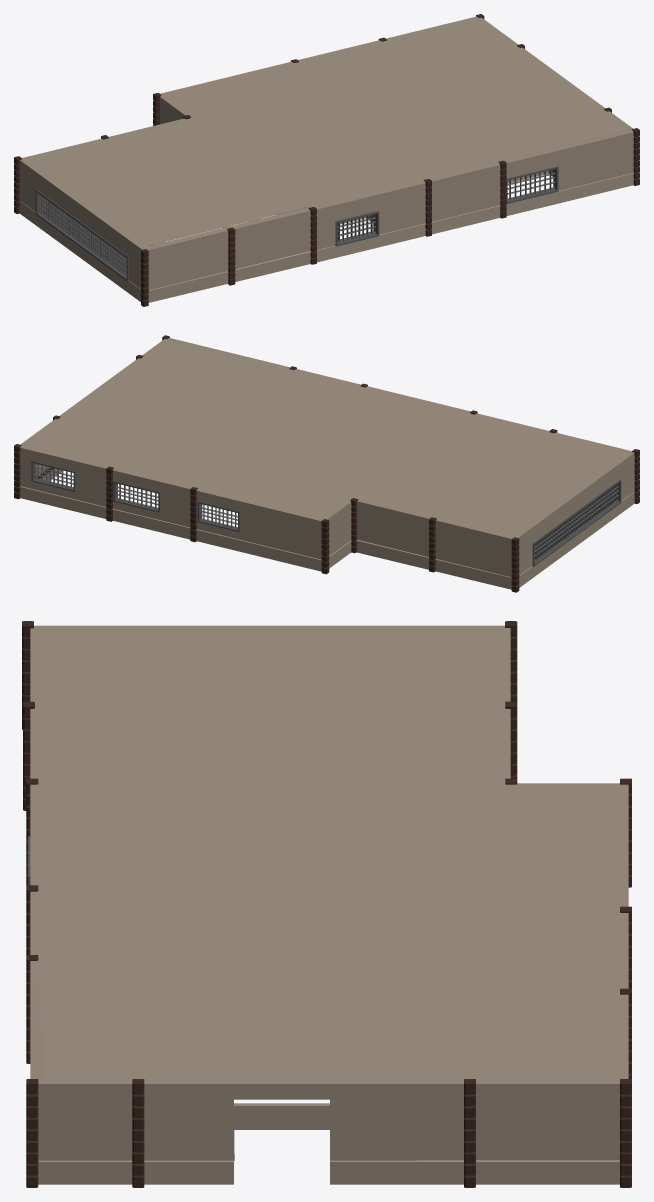
File: laboratorio.fbx
3 views of the same model, one above another, from view 1: azimuth 30°, elevation 25°; view 2: azimuth 150°, elevation 25°; view 3: azimuth 270°, elevation 25° (orthographic). The views are drawn at different scales.
Parts seen in each view (by area): view 1: Colunas; view 2: Colunas; view 3: Colunas.
Part boxes in pixels (x1,y1,x2,y2): Colunas: (14,14,639,306); Colunas: (14,335,639,592); Colunas: (22,621,631,1187).
Bounding box in the file's own units: 34210 × 3606 × 19053.
3 materials, 1 textured.
